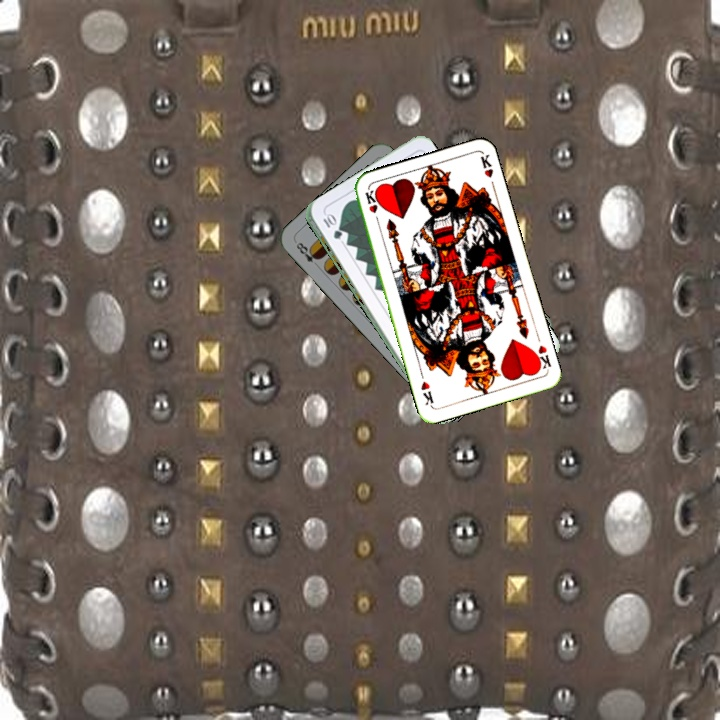E8: (291, 237, 323, 271)
G10: (319, 211, 343, 242)
HK: (361, 186, 382, 226), (529, 341, 554, 373)
